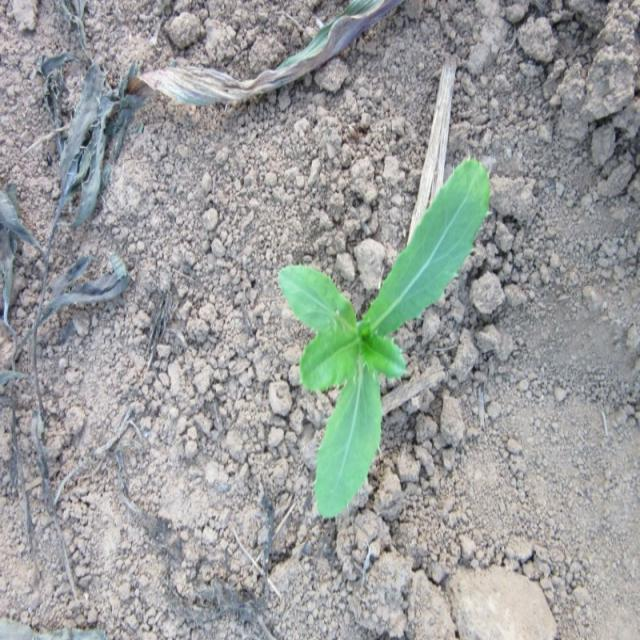cs: (275, 155, 494, 526)
